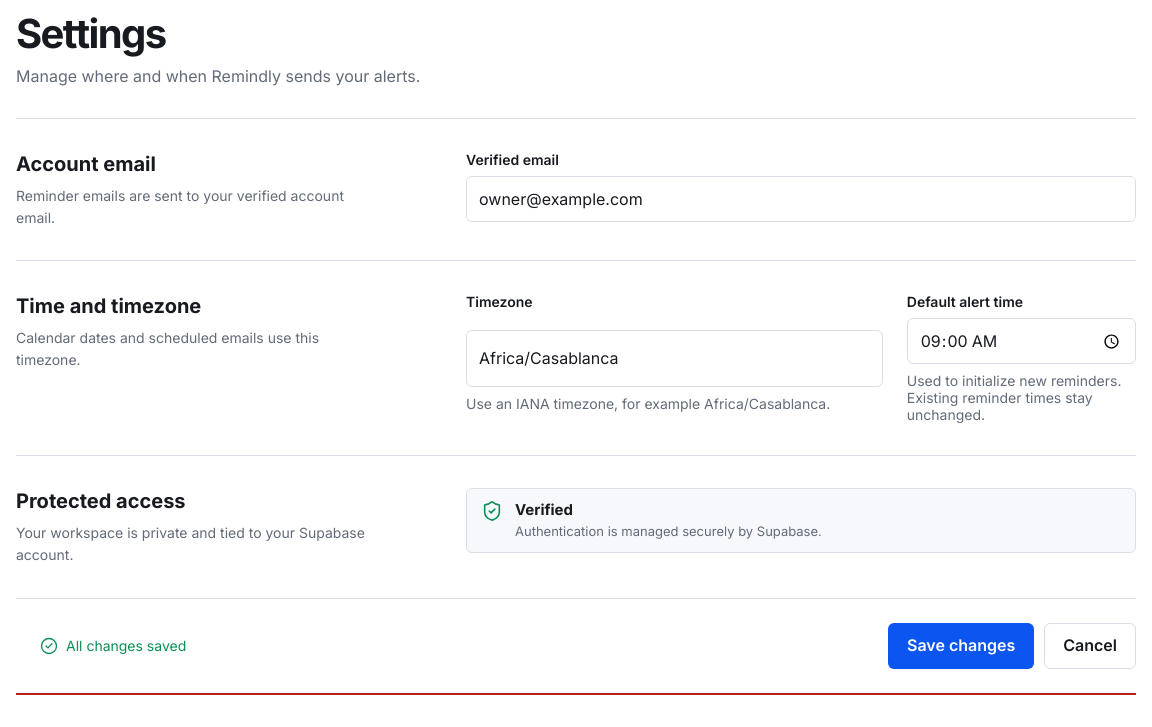
SettingsPage › saves valid edits and shows inline success feedback
Replace the text in the field labelled "Timezone" with "Europe/London" at (674, 358), box [466,330,883,387]
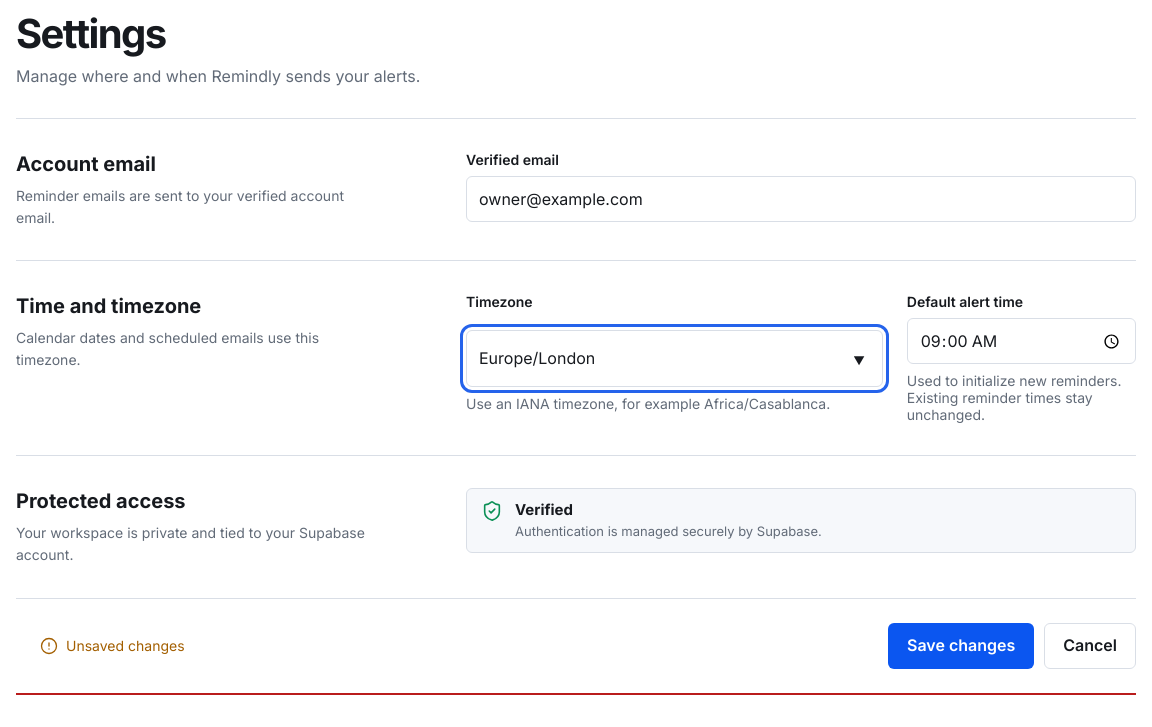
Click the button "Save changes" at (961, 646), box [888,623,1034,669]
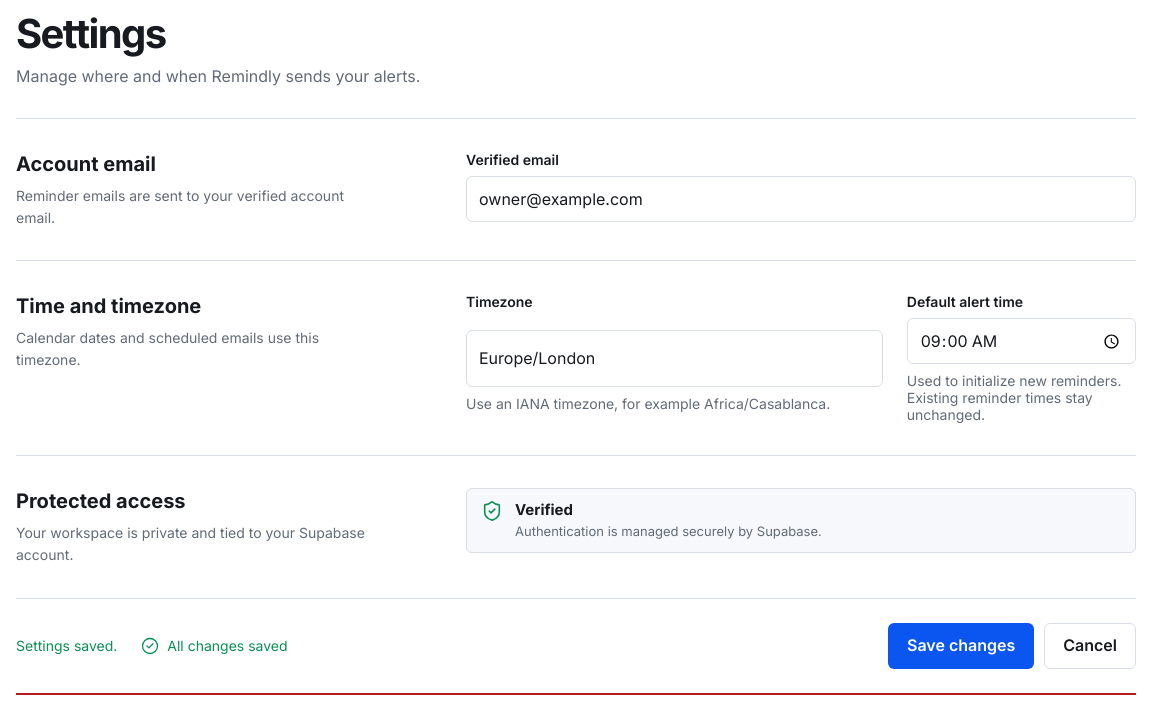
Now the text "Settings saved." is shown, box [16,637,117,654]
